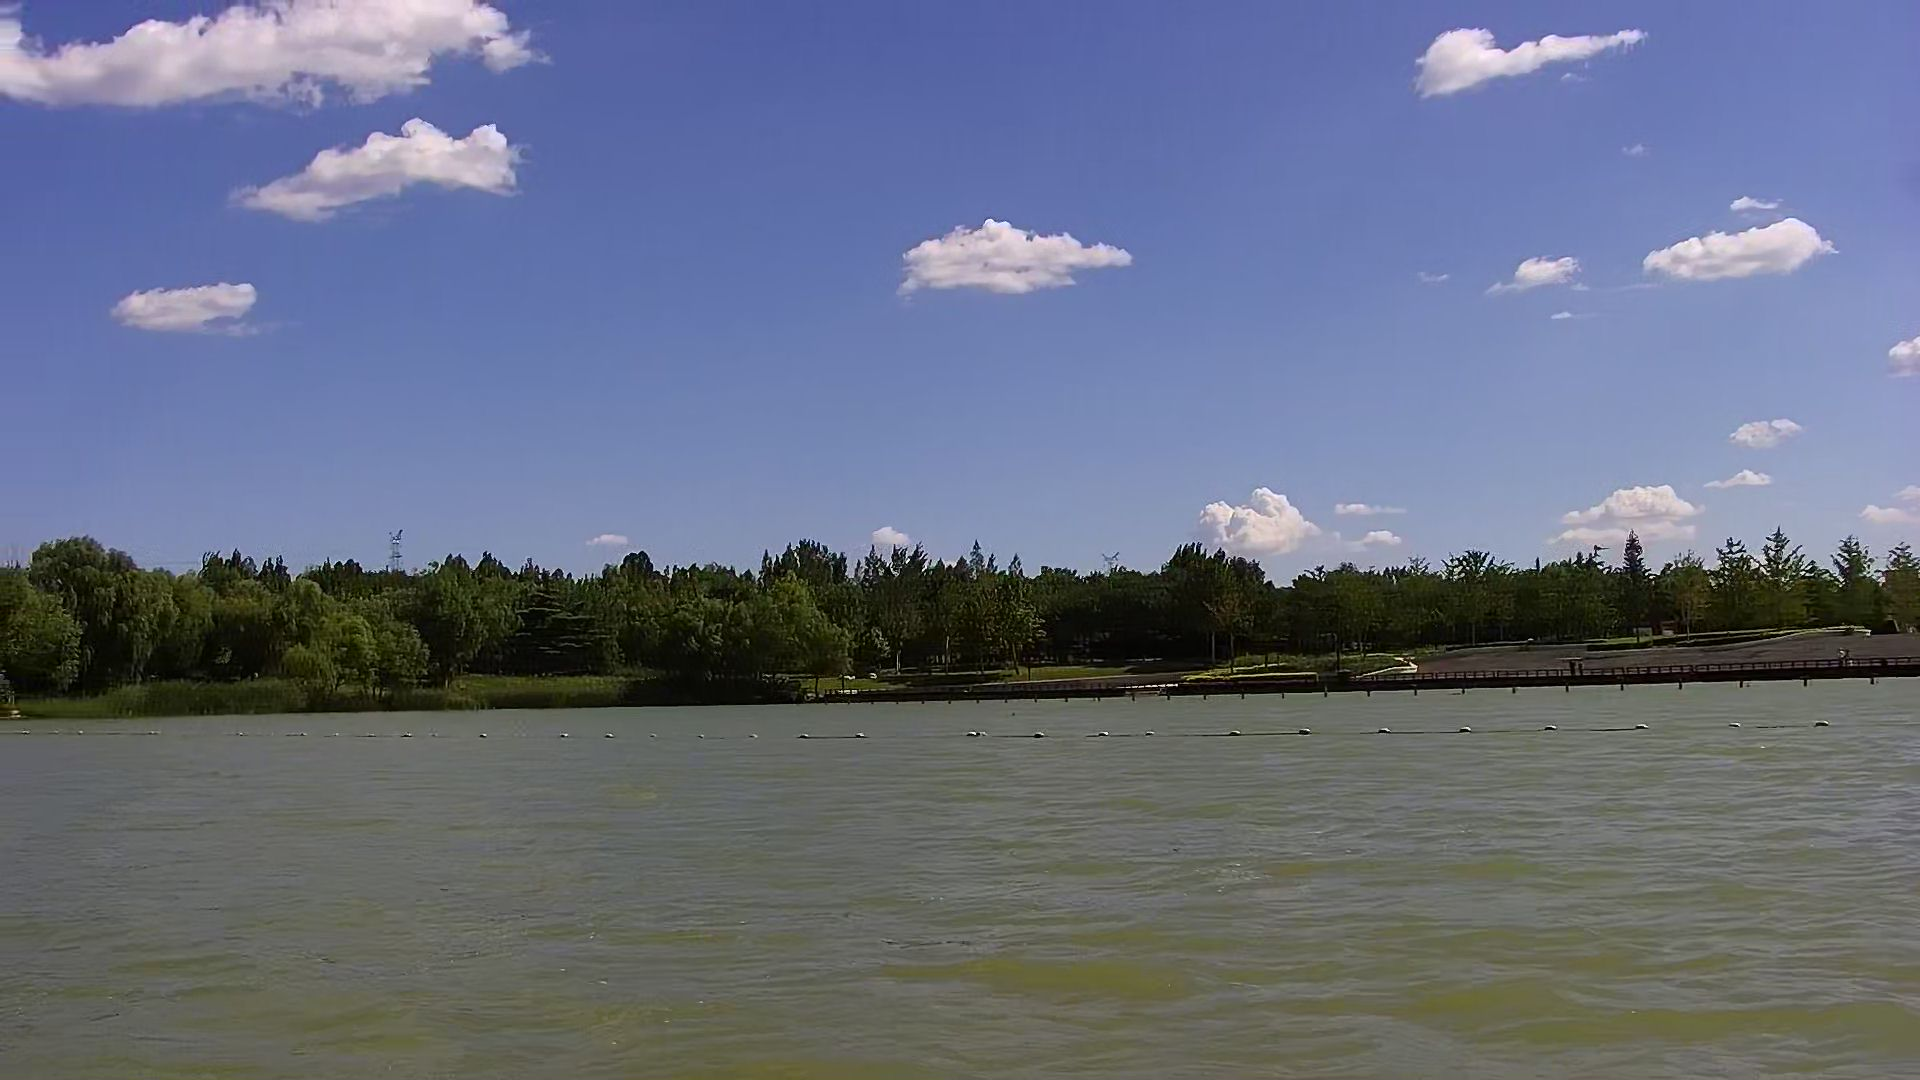ball: (848, 721, 870, 746), (1455, 719, 1478, 740), (1809, 713, 1833, 735), (1296, 723, 1313, 741), (1374, 723, 1393, 738)
harbor: (1387, 628, 1920, 696)
